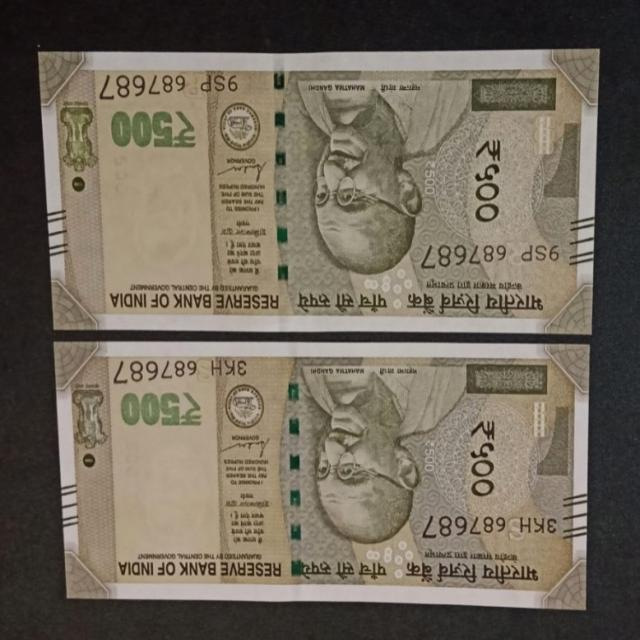500IndianRupees: (63, 340, 591, 609)
